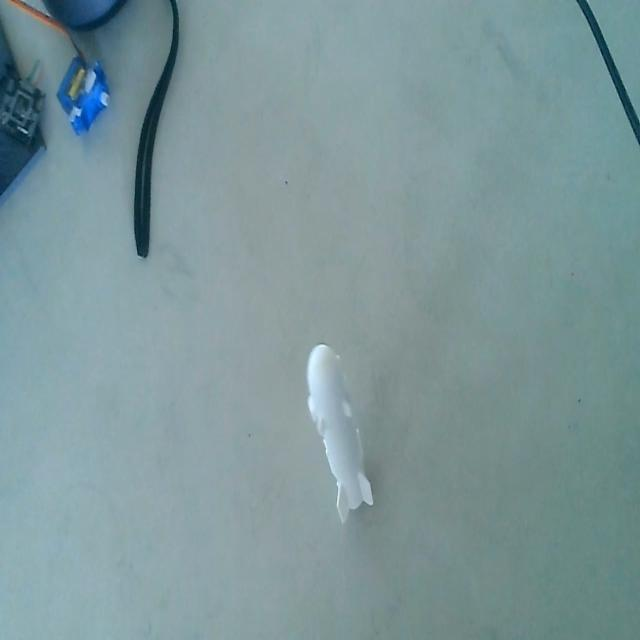Rocket: (305, 339, 377, 531)
